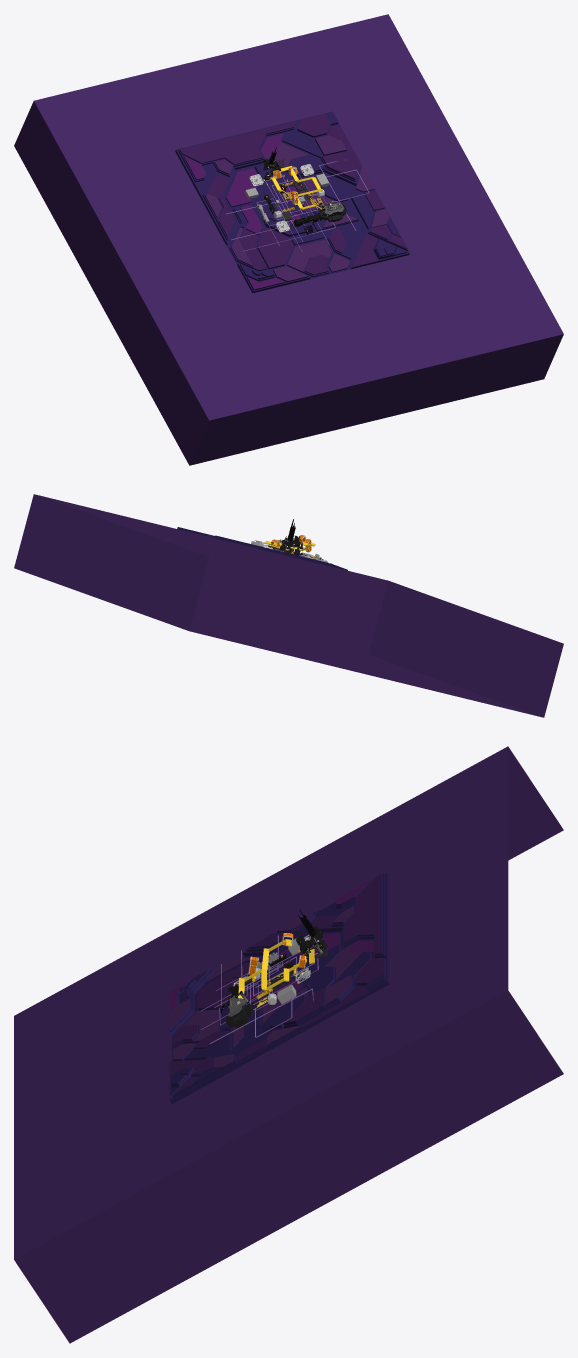
File: electricboard0629.fbx
The picture shows the model from 3 angles, top to bottom: view 1: azimuth 30°, elevation 25°; view 2: azimuth 150°, elevation 25°; view 3: azimuth 270°, elevation 25°; orthographic projection. The views are drawn at different scales.
Visible parts, largest first — view 1: 背景, Plane.013, Plane.017, Plane.020, Plane.022, Plane.021; view 2: 背景, Plane.013; view 3: 背景, Plane.013, Plane.017, Plane.020, Plane.022.
Boxes of the visible parts, x1,y1,x2,y2 form: 背景: (14, 14, 563, 465); Plane.013: (175, 111, 409, 293); Plane.017: (180, 113, 406, 274); Plane.020: (205, 135, 389, 280); Plane.022: (184, 133, 301, 289); Plane.021: (250, 177, 293, 216); 背景: (14, 494, 563, 717); Plane.013: (177, 527, 347, 570); 背景: (14, 746, 563, 1343); Plane.013: (169, 873, 389, 1104); Plane.017: (169, 873, 384, 1093); Plane.020: (169, 906, 361, 1067); Plane.022: (169, 879, 373, 1012).
Bounding box in the file's own units: 4891 × 3309 × 4663.
